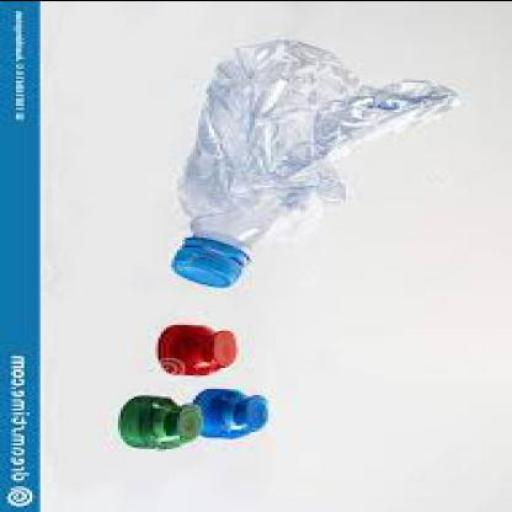plastic: (180, 42, 469, 288), (120, 398, 201, 450), (171, 239, 252, 289), (158, 326, 238, 376), (196, 390, 270, 438)
